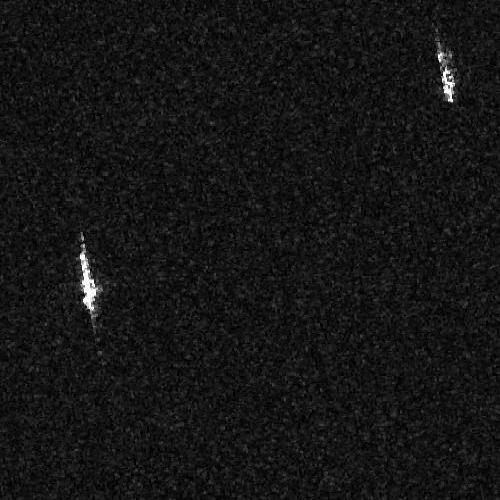ship: (79, 242, 98, 319), (436, 41, 457, 104)
